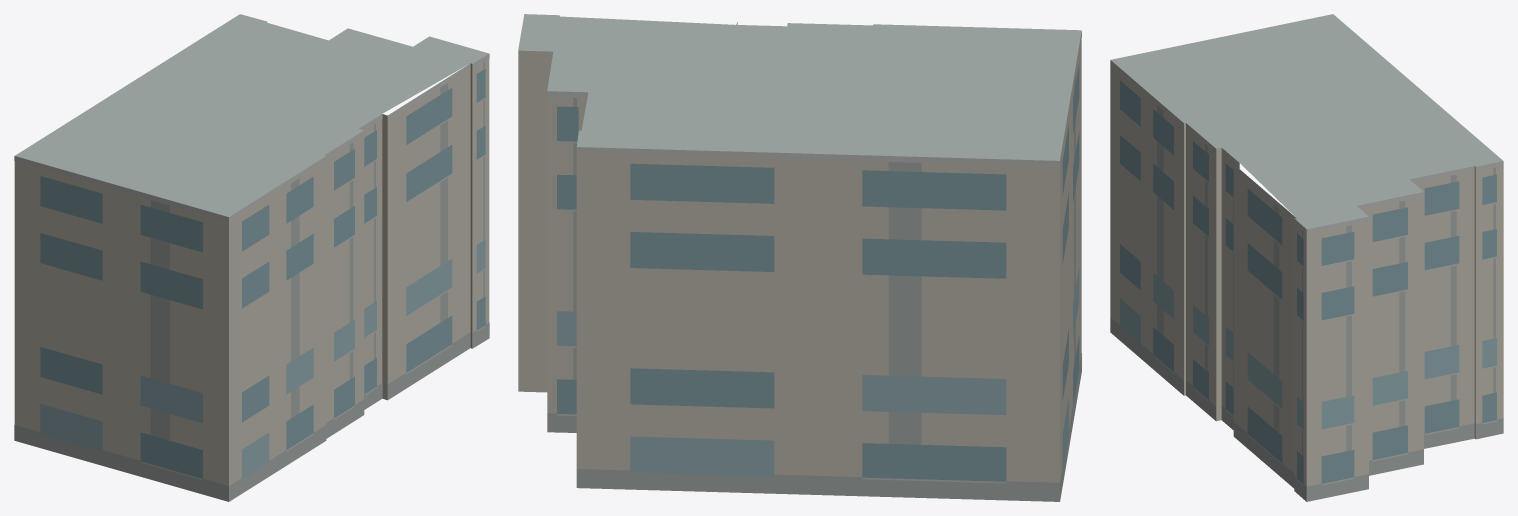
File: survey-upis-32977318.glb
The picture shows the model from 3 angles, left to right: view 1: azimuth 30°, elevation 25°; view 2: azimuth 150°, elevation 25°; view 3: azimuth 270°, elevation 25°; orthographic projection. The views are drawn at different scales.
Parts seen in each view (by area): view 1: survey-upis-32977318.tmp; view 2: survey-upis-32977318.tmp; view 3: survey-upis-32977318.tmp.
Part boxes in pixels (<box>): survey-upis-32977318.tmp: <box>14,14,489,501</box>; survey-upis-32977318.tmp: <box>518,14,1081,501</box>; survey-upis-32977318.tmp: <box>1110,14,1503,501</box>.
Bounding box in the file's own units: 23.14 × 13.65 × 17.85.
